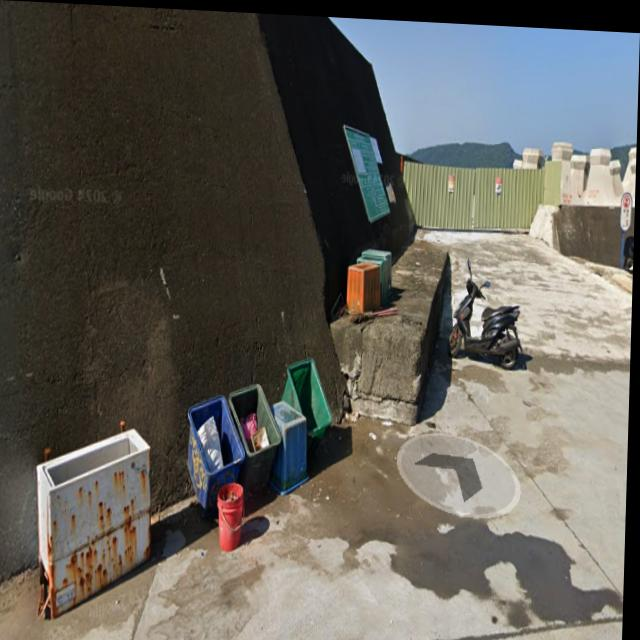pollute: (186, 348, 337, 557), (36, 422, 155, 624)
